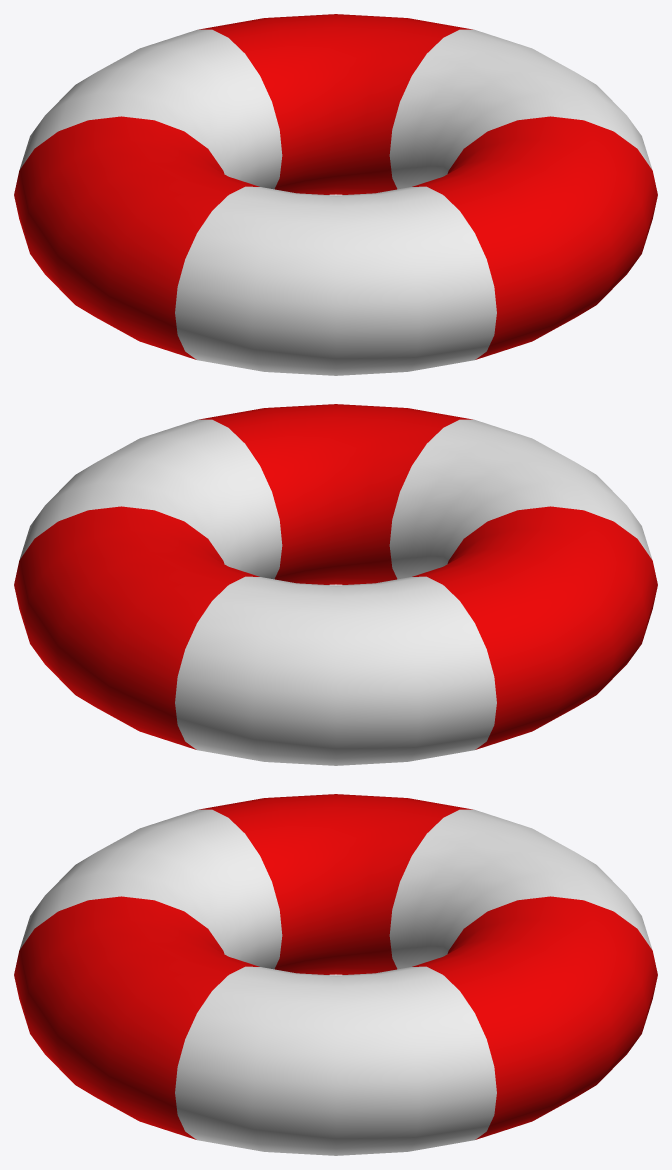
Rendered from floater.fbx.
3 renders of one model, top to bottom at view 1: azimuth 30°, elevation 25°; view 2: azimuth 150°, elevation 25°; view 3: azimuth 270°, elevation 25°, orthographic.
Parts seen in each view (by area): view 1: pTorus1; view 2: pTorus1; view 3: pTorus1.
Part boxes in pixels (x1,y1,x2,y2): pTorus1: [14, 14, 657, 375]; pTorus1: [14, 404, 657, 765]; pTorus1: [14, 794, 657, 1155].
Size of the model in its own units: 511 by 137 by 511.
